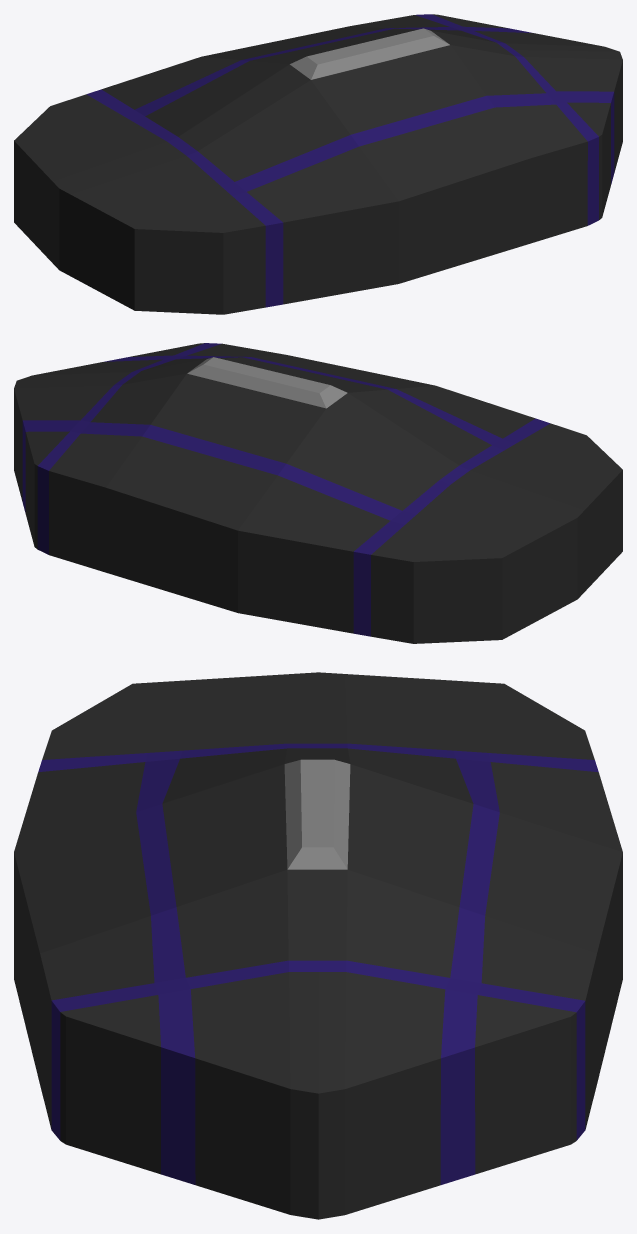
Rendered from Mouse_4.fbx.
3 renders of one model, top to bottom at view 1: azimuth 30°, elevation 25°; view 2: azimuth 150°, elevation 25°; view 3: azimuth 270°, elevation 25°, orthographic. The views are drawn at different scales.
Parts seen in each view (by area): view 1: Mouse_4; view 2: Mouse_4; view 3: Mouse_4.
Boxes of the visible parts, left/top/right/bottom form: Mouse_4: left=14, top=14, right=622, bottom=314; Mouse_4: left=14, top=343, right=622, bottom=643; Mouse_4: left=14, top=672, right=622, bottom=1219.
Size of the model in its own units: 0.063 by 0.0159 by 0.0385.
